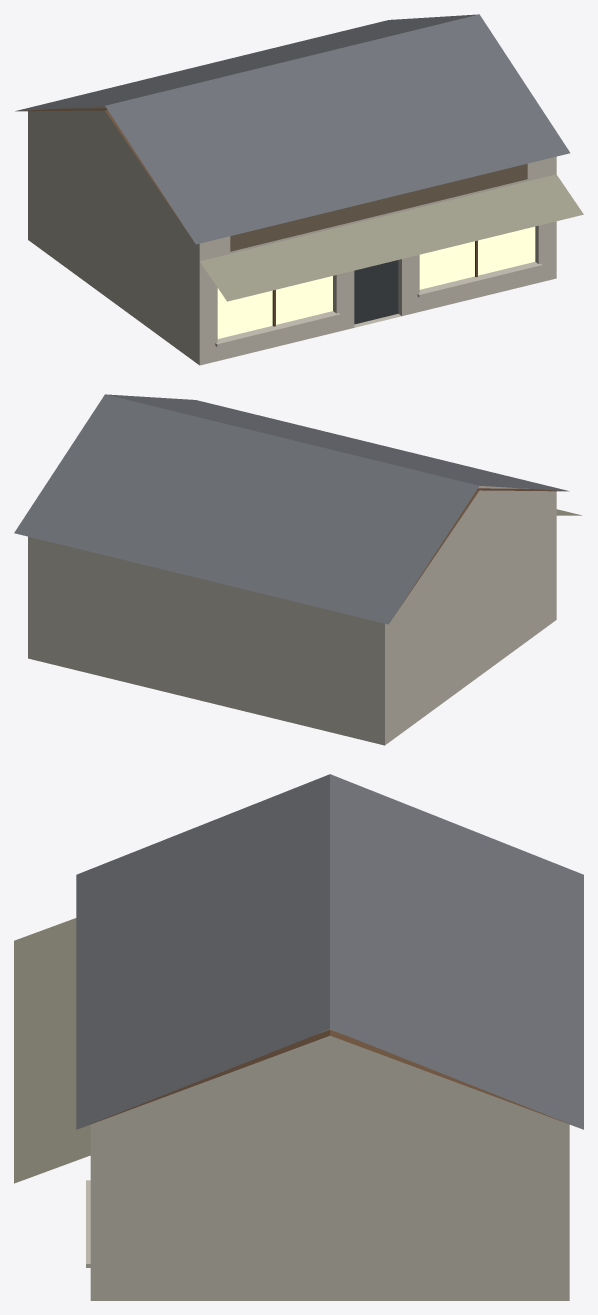
The model's file is cafe.glb.
The picture shows the model from 3 angles, top to bottom: view 1: azimuth 30°, elevation 25°; view 2: azimuth 150°, elevation 25°; view 3: azimuth 270°, elevation 25°; orthographic projection. The views are drawn at different scales.
Parts seen in each view (by area): view 1: cafe; view 2: cafe; view 3: cafe.
Part boxes in pixels (x1,y1,x2,y2): cafe: [15, 14, 583, 365]; cafe: [14, 394, 582, 745]; cafe: [14, 774, 583, 1300].
Bounding box in the file's own units: 12.6 × 6.4 × 11.9.
